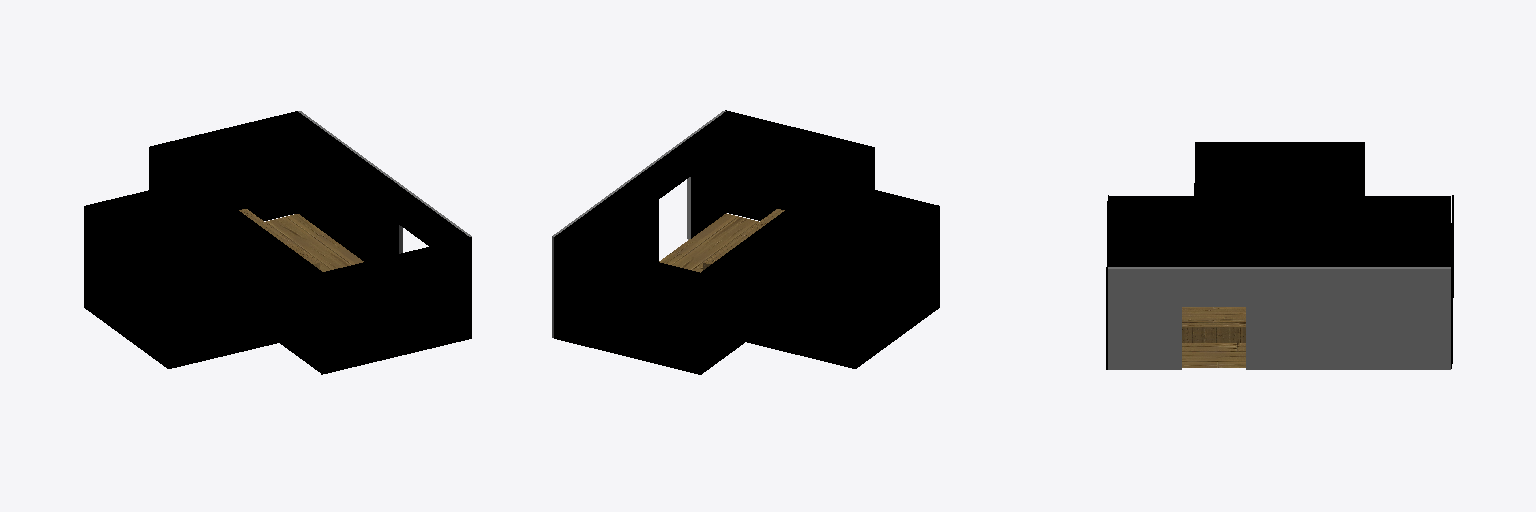
The picture shows the model from 3 angles: view 1: azimuth 30°, elevation 25°; view 2: azimuth 150°, elevation 25°; view 3: azimuth 270°, elevation 25°; orthographic projection.
Visible parts, largest first — view 1: pasted__pasted__pasted__pasted__pasted__pCube1 pasted__pasted__p, pCube1, pasted__pasted__pCube1 pasted__group2 group3, pasted__pasted__pasted__pasted__pCube1 pasted__pasted__pasted__g, pasted__pCube1 group2, pasted__pCube1 group1, pasted__pasted__pasted__pCube1 pasted__pasted__group2 pasted__gr, pPlane1, pasted__pasted__polySurface5 pasted__pasted__pCube3 pasted__grou; view 2: pasted__pasted__pasted__pasted__pCube1 pasted__pasted__pasted__g, pasted__pasted__pasted__pCube1 pasted__pasted__group2 pasted__gr, pCube1, pasted__pasted__pasted__pasted__pasted__pCube1 pasted__pasted__p, pasted__pCube1 group1, pasted__pCube1 group2, pasted__pasted__pCube1 pasted__group2 group3, pPlane1, pasted__pasted__pasted__polySurface5 pasted__pasted__pasted__pCu; view 3: pasted__pasted__pCube1 pasted__group16 group17, pasted__pCube1 group1, pasted__pCube1 group2, pasted__pasted__pasted__polySurface5 pasted__pasted__pasted__pCu, pasted__pCube1 group16, pPlane1.
Part boxes in pixels (x1,y1,x2,y2): pasted__pasted__pasted__pasted__pasted__pCube1 pasted__pasted__p: (321, 237, 471, 374); pCube1: (297, 111, 468, 261); pasted__pasted__pCube1 pasted__group2 group3: (169, 241, 278, 368); pasted__pasted__pasted__pasted__pCube1 pasted__pasted__pasted__g: (149, 111, 296, 220); pasted__pCube1 group2: (84, 206, 169, 368); pasted__pCube1 group1: (151, 147, 321, 372); pasted__pasted__pasted__pCube1 pasted__pasted__group2 pasted__gr: (86, 180, 194, 266); pPlane1: (266, 214, 363, 271); pasted__pasted__polySurface5 pasted__pasted__pCube3 pasted__grou: (239, 209, 319, 269); pasted__pasted__pasted__pasted__pCube1 pasted__pasted__pasted__g: (554, 237, 701, 374); pasted__pasted__pasted__pCube1 pasted__pasted__group2 pasted__gr: (746, 240, 854, 368); pCube1: (555, 111, 727, 261); pasted__pasted__pasted__pasted__pasted__pCube1 pasted__pasted__p: (725, 110, 874, 220); pasted__pCube1 group1: (701, 147, 872, 373); pasted__pCube1 group2: (855, 206, 939, 368); pasted__pasted__pCube1 pasted__group2 group3: (830, 179, 938, 266); pPlane1: (659, 213, 758, 272); pasted__pasted__pasted__polySurface5 pasted__pasted__pasted__pCu: (703, 209, 784, 269); pasted__pasted__pCube1 pasted__group16 group17: (1108, 268, 1450, 369); pasted__pCube1 group1: (1109, 196, 1450, 266); pasted__pCube1 group2: (1197, 142, 1362, 195); pasted__pasted__pasted__polySurface5 pasted__pasted__pasted__pCu: (1182, 307, 1245, 342); pasted__pCube1 group16: (1108, 267, 1450, 369); pPlane1: (1182, 343, 1245, 367).
Size of the model in its own units: 17.37 by 6.48 by 20.06.
Materials: 12 (2 with a texture image).